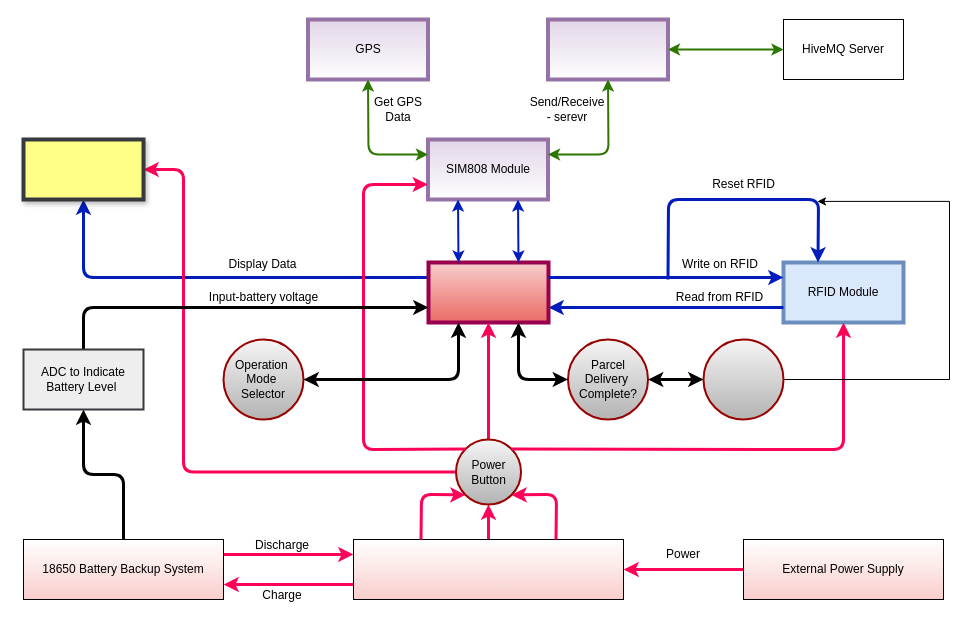
This 975x627 diagram has some shape labels left out. Each missing label, with the centre of its shape:
"Delivery Confirmation" belongs at [743,379].
"Esp32 Devkit V1 MCU" belongs at [488,292].
"GPRS" belongs at [608,49].
"OLED Display" belongs at [84,170].
"Voltage Regulator + Current Regulator" belongs at [488,569].
